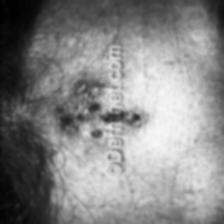Toxin: (52, 71, 102, 158), (125, 94, 149, 140)
